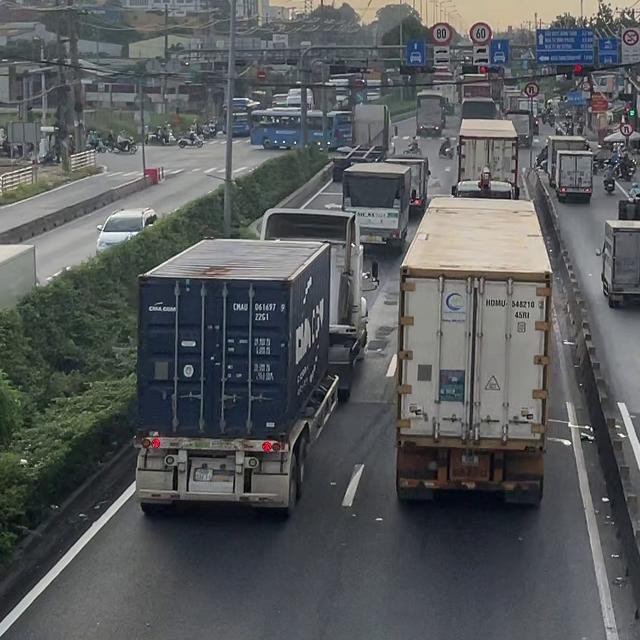bus: (249, 107, 353, 151), (220, 97, 260, 137)
car: (95, 206, 157, 257)
motorcycle: (112, 137, 137, 153), (177, 135, 204, 148), (603, 176, 618, 193), (627, 183, 639, 203), (438, 145, 455, 159), (403, 145, 423, 154)
truck: (141, 207, 371, 511), (394, 197, 553, 507), (340, 161, 412, 250), (330, 104, 396, 182), (455, 119, 518, 200), (596, 219, 639, 308), (1, 242, 39, 316), (383, 155, 430, 214), (546, 135, 590, 187), (555, 150, 595, 203), (415, 90, 447, 136), (451, 178, 517, 199), (504, 109, 532, 148), (463, 98, 495, 124), (459, 81, 491, 102)
